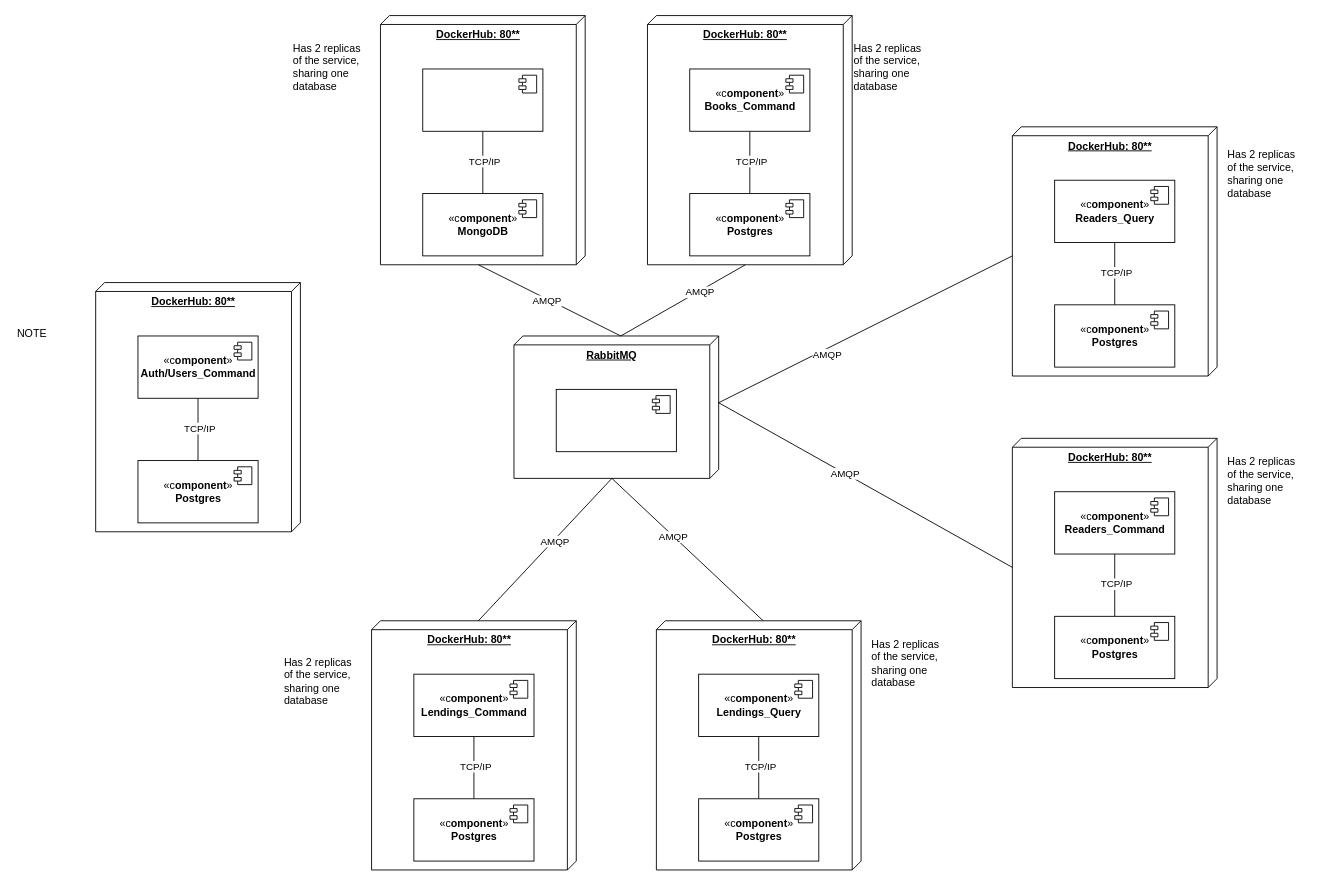
Some shapes in this 1321 by 886 pixel diagram are drawn without their labels. The shapes that lost their labels are listed below. From the top down, each one's box as (x1, y1, x2, y2) in pixels, then its label:
(422, 68, 543, 131): «c omponent » Books_Query
(555, 388, 676, 452): «c omponent » Message Broker
